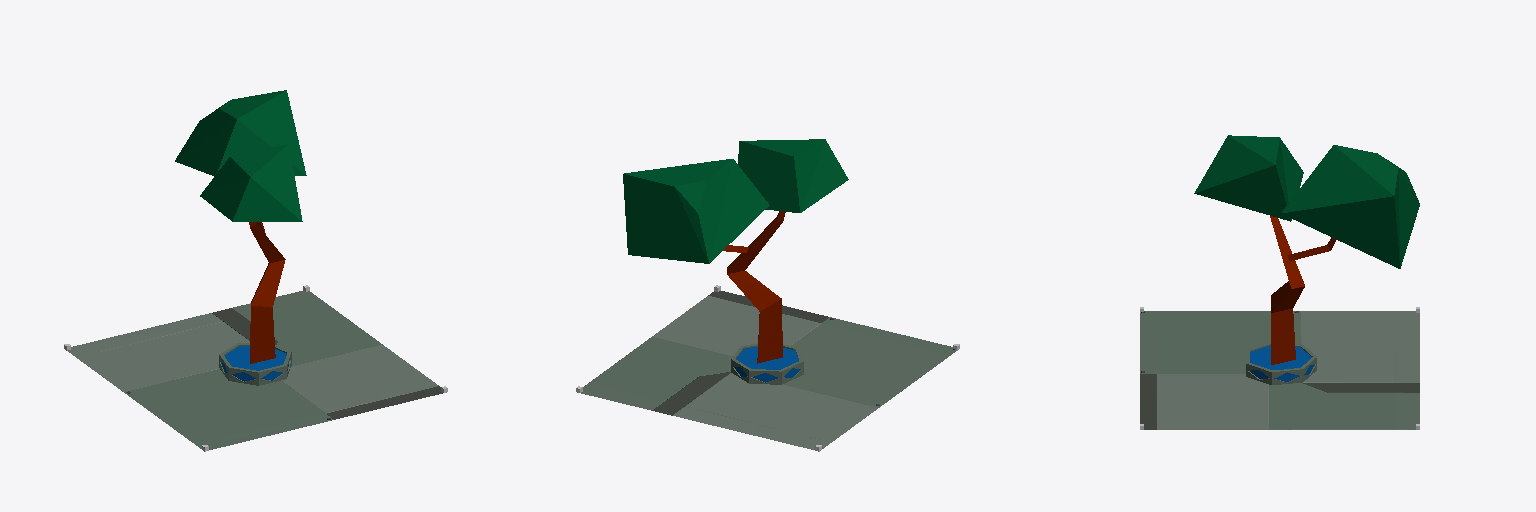
3 renders of one model, left to right at view 1: azimuth 30°, elevation 25°; view 2: azimuth 150°, elevation 25°; view 3: azimuth 270°, elevation 25°, orthographic.
Parts seen in each view (by area): view 1: Scifi_Panel_04_Plaza014_group4.030, Tree06, Cylinder.000_Cylinder.004; view 2: Scifi_Panel_04_Plaza014_group4.030, Tree06, Cylinder.000_Cylinder.004; view 3: Scifi_Panel_04_Plaza014_group4.030, Tree06, Cylinder.000_Cylinder.004.
Boxes of the visible parts, <box> form: Scifi_Panel_04_Plaza014_group4.030: <box>67,291,442,449</box>; Tree06: <box>175,90,306,363</box>; Cylinder.000_Cylinder.004: <box>219,343,291,385</box>; Scifi_Panel_04_Plaza014_group4.030: <box>581,291,956,449</box>; Tree06: <box>623,139,848,363</box>; Cylinder.000_Cylinder.004: <box>731,343,803,384</box>; Scifi_Panel_04_Plaza014_group4.030: <box>1140,311,1419,429</box>; Tree06: <box>1194,135,1419,364</box>; Cylinder.000_Cylinder.004: <box>1246,342,1316,384</box>.
Size of the model in its own units: 10 by 9.05 by 10.